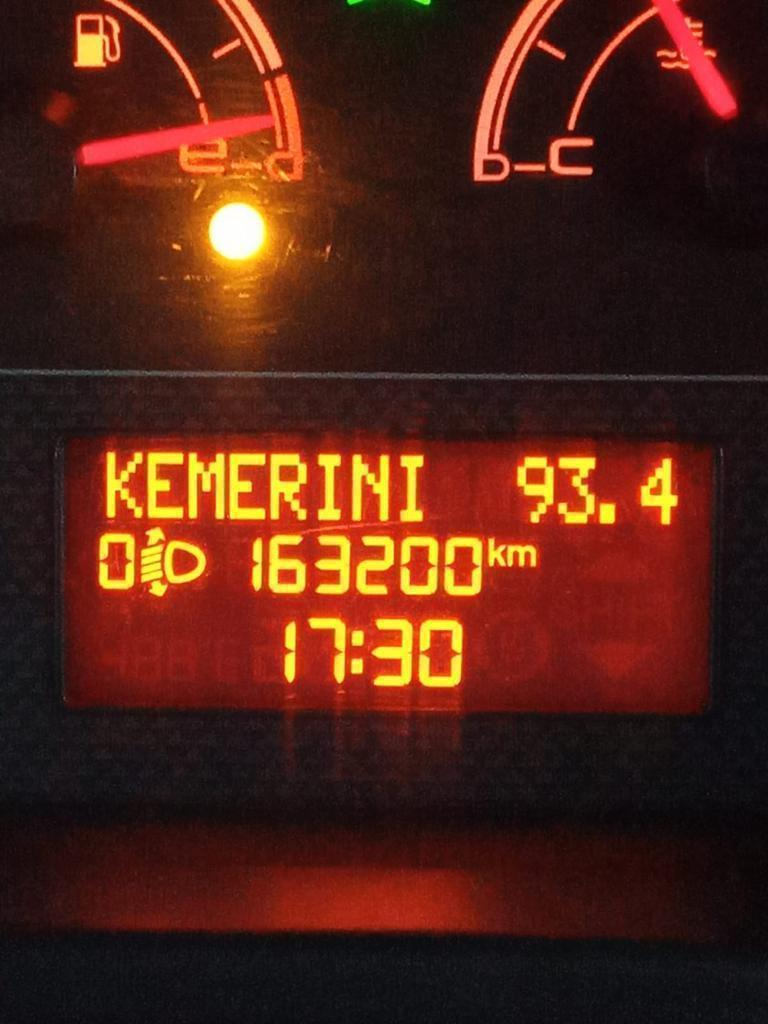,: (596, 500, 620, 528)
0: (416, 613, 466, 691), (441, 532, 484, 598), (397, 531, 439, 598), (95, 530, 138, 594)
1: (274, 614, 299, 686), (241, 530, 266, 594)
2: (352, 533, 394, 598)
3: (369, 612, 411, 688), (558, 452, 595, 527), (313, 532, 351, 598)
4: (633, 453, 683, 528)
6: (268, 530, 311, 597)
7: (304, 612, 348, 687)
9: (509, 452, 556, 526)
X: (100, 448, 144, 523), (269, 448, 310, 523), (227, 448, 268, 523), (185, 449, 227, 522), (144, 448, 185, 522), (349, 450, 390, 524), (396, 451, 429, 523), (314, 451, 345, 524), (506, 541, 540, 569), (348, 627, 366, 677), (487, 532, 506, 569)
odometer: (52, 425, 723, 723)
